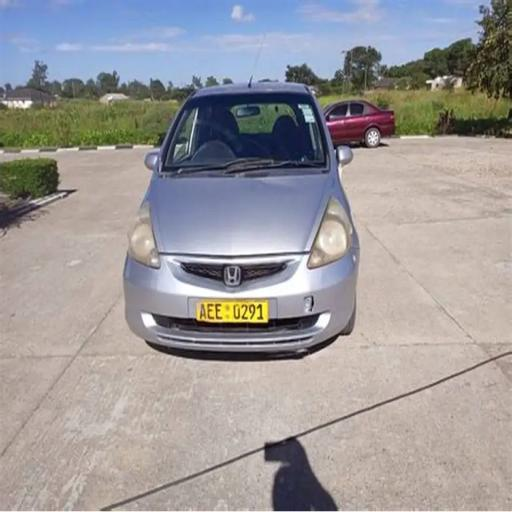number-plates: (198, 296, 270, 326)
